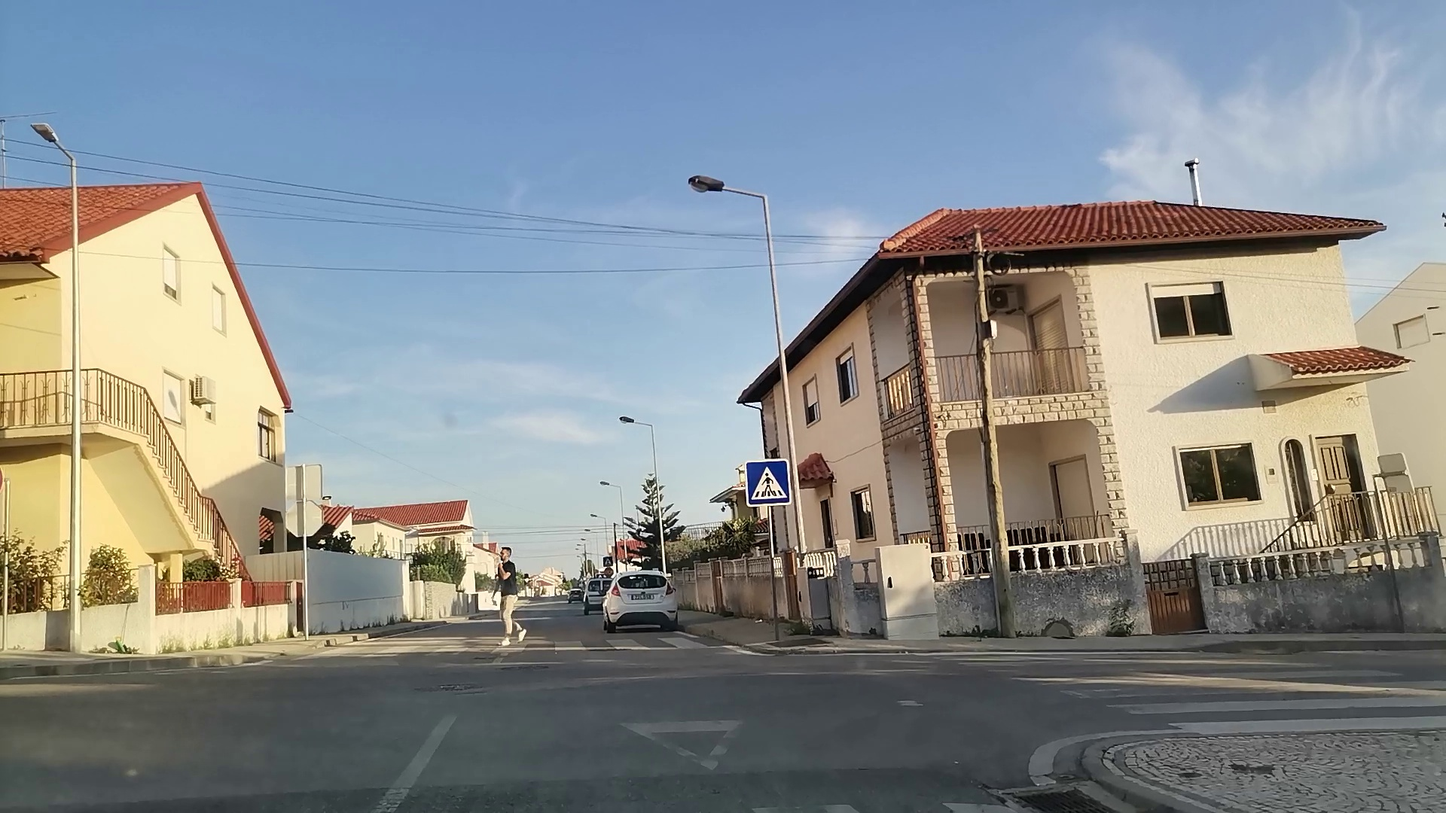Stairs: (946, 649, 1446, 729), (486, 630, 717, 657)
